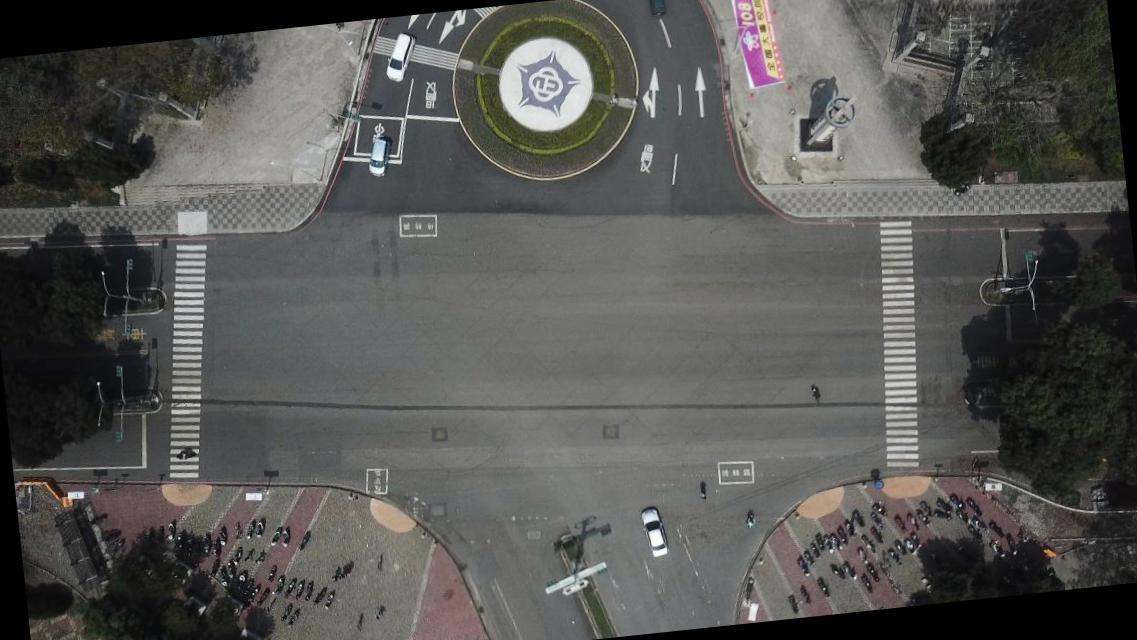vehicle: (380, 29, 419, 82), (639, 506, 670, 556), (364, 136, 395, 178), (647, 0, 668, 16)
